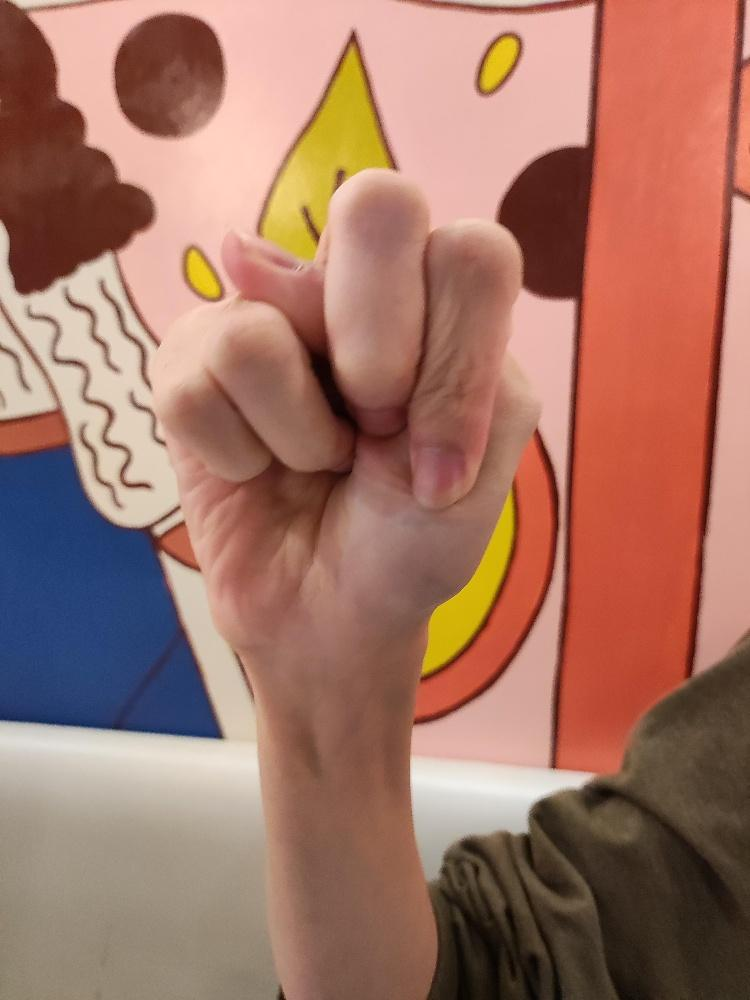n: (147, 163, 544, 659)
